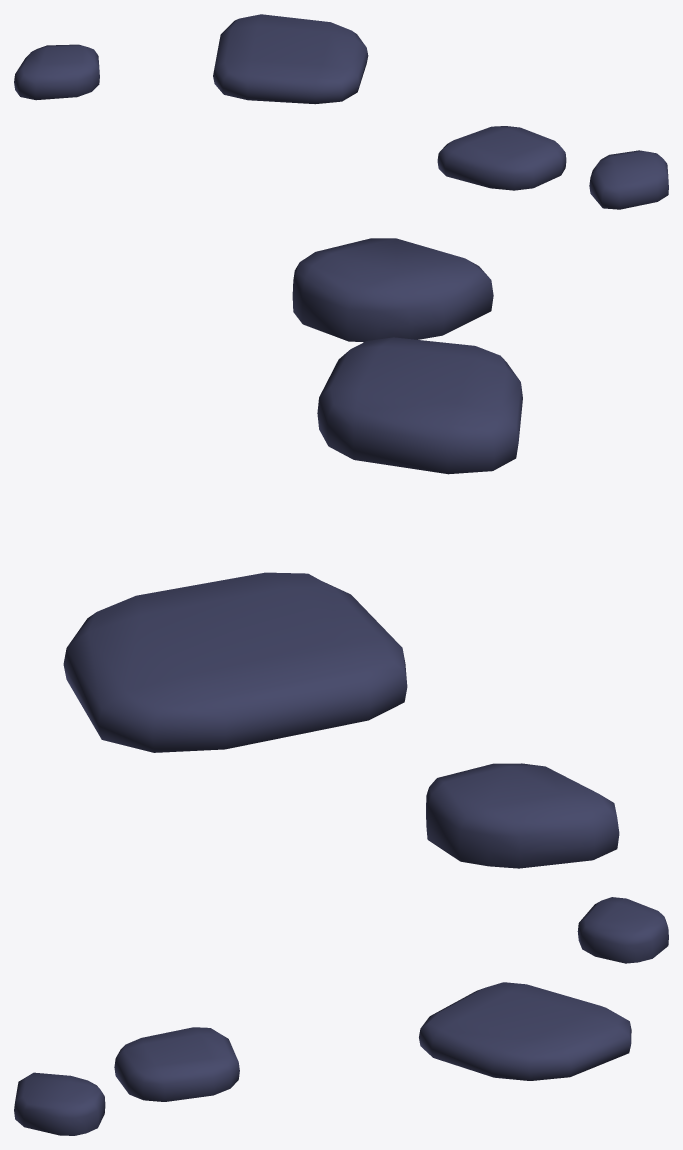
The model's file is SM_Prop_Pebbles2.fbx.
3 renders of one model, top to bottom at view 1: azimuth 30°, elevation 25°; view 2: azimuth 150°, elevation 25°; view 3: azimuth 270°, elevation 25°, orthographic. The views are drawn at different scales.
Parts seen in each view (by area): view 1: SM_Prop_Pebbles2; view 2: SM_Prop_Pebbles2; view 3: SM_Prop_Pebbles2.
Boxes of the visible parts, box(x1,y1,x2,y2) form: SM_Prop_Pebbles2: box(14, 14, 668, 209); SM_Prop_Pebbles2: box(63, 238, 619, 868); SM_Prop_Pebbles2: box(14, 897, 668, 1135).
Bounding box in the file's own units: 225 × 13.03 × 284.
